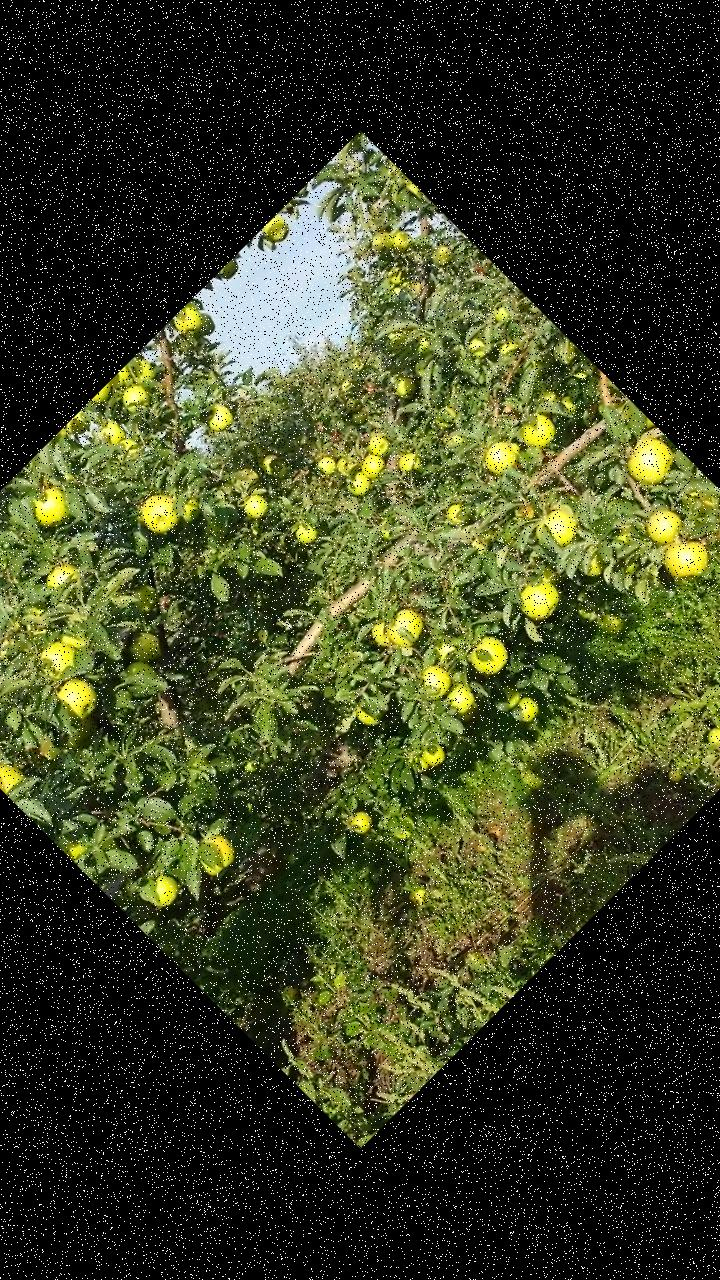Apple: (616, 428, 680, 494), (652, 528, 714, 588), (529, 500, 584, 555), (132, 486, 185, 539), (50, 672, 102, 724), (511, 572, 563, 624), (23, 483, 74, 534), (464, 631, 514, 681), (379, 604, 427, 652), (514, 409, 560, 455), (190, 832, 236, 878), (36, 634, 82, 678), (640, 504, 684, 548), (478, 438, 520, 481), (125, 626, 167, 668), (39, 553, 80, 594), (59, 714, 100, 754), (678, 480, 718, 520), (169, 302, 206, 340), (121, 654, 158, 692), (125, 581, 162, 618), (413, 663, 450, 700), (198, 398, 236, 434), (145, 870, 180, 906), (485, 678, 520, 714), (505, 694, 540, 730), (259, 214, 294, 249), (440, 680, 476, 714), (92, 416, 127, 450), (364, 617, 398, 652), (0, 753, 26, 795), (391, 446, 424, 479), (578, 550, 610, 584), (62, 412, 94, 444), (118, 383, 150, 415), (366, 227, 398, 259), (55, 624, 87, 656), (352, 449, 384, 480), (58, 828, 90, 859), (108, 365, 138, 395), (379, 260, 409, 290), (32, 732, 62, 762), (332, 450, 362, 480), (344, 468, 374, 498), (428, 402, 458, 432), (239, 492, 268, 522), (386, 227, 415, 256), (176, 494, 204, 524), (344, 808, 373, 836), (419, 741, 447, 770), (88, 383, 116, 411), (360, 430, 388, 458), (441, 502, 469, 530), (610, 518, 638, 546), (389, 814, 417, 842), (190, 311, 218, 338), (390, 374, 417, 401), (463, 336, 490, 362), (214, 258, 240, 284), (128, 357, 154, 383), (426, 242, 452, 268), (350, 704, 376, 730), (494, 334, 519, 360), (596, 612, 622, 637), (256, 451, 281, 476), (338, 392, 364, 416), (345, 404, 369, 428), (292, 520, 316, 544), (116, 436, 140, 459), (314, 454, 336, 476), (406, 754, 428, 776), (489, 304, 510, 324)
